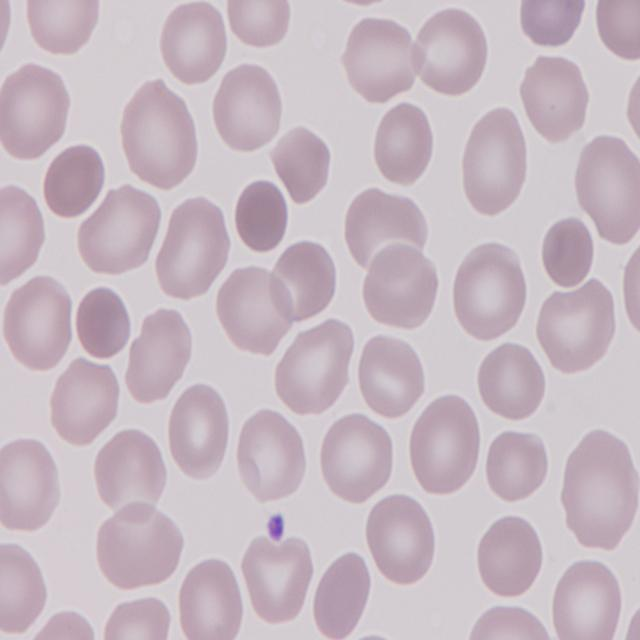RBC: (558, 432, 640, 556), (118, 80, 201, 192), (458, 105, 534, 219), (96, 501, 186, 597), (451, 242, 532, 344), (154, 196, 232, 300), (532, 280, 620, 372), (80, 184, 166, 278), (408, 396, 486, 499), (410, 6, 491, 103), (276, 316, 355, 415), (240, 532, 318, 630), (317, 416, 400, 508), (0, 61, 74, 162), (211, 61, 288, 158), (214, 266, 295, 358), (0, 275, 75, 374), (363, 491, 438, 589), (233, 411, 310, 506), (362, 239, 441, 331), (124, 305, 194, 408), (341, 13, 422, 102), (574, 136, 640, 245), (518, 50, 592, 144), (344, 186, 428, 268), (94, 426, 170, 515), (50, 355, 124, 446), (167, 382, 235, 481), (473, 509, 544, 602), (474, 336, 548, 424), (0, 434, 65, 534), (157, 0, 229, 90), (355, 333, 426, 423), (550, 557, 624, 640), (372, 99, 439, 188), (272, 238, 340, 324), (175, 558, 245, 640), (484, 425, 554, 506), (311, 549, 372, 640), (41, 144, 108, 222), (272, 120, 334, 204), (0, 536, 49, 638), (0, 184, 48, 288), (22, 1, 100, 57), (462, 603, 558, 640), (228, 0, 292, 55), (520, 0, 587, 50), (102, 595, 174, 640), (593, 0, 640, 63), (617, 236, 640, 345), (27, 610, 100, 640)
Spherocyte: (228, 174, 290, 255), (74, 282, 135, 362), (540, 212, 600, 291)
